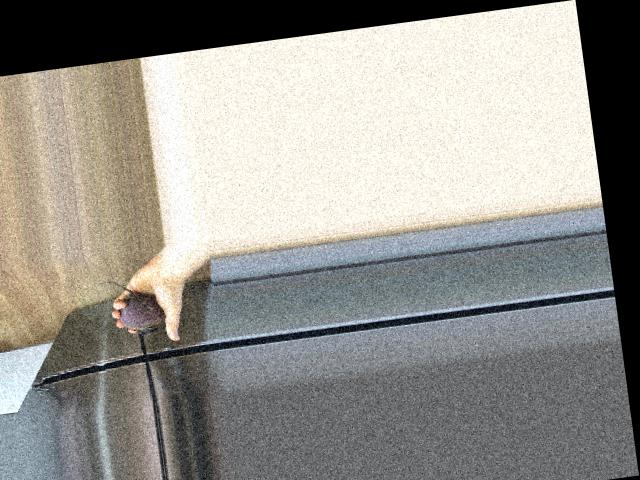beet: (96, 274, 166, 340)
